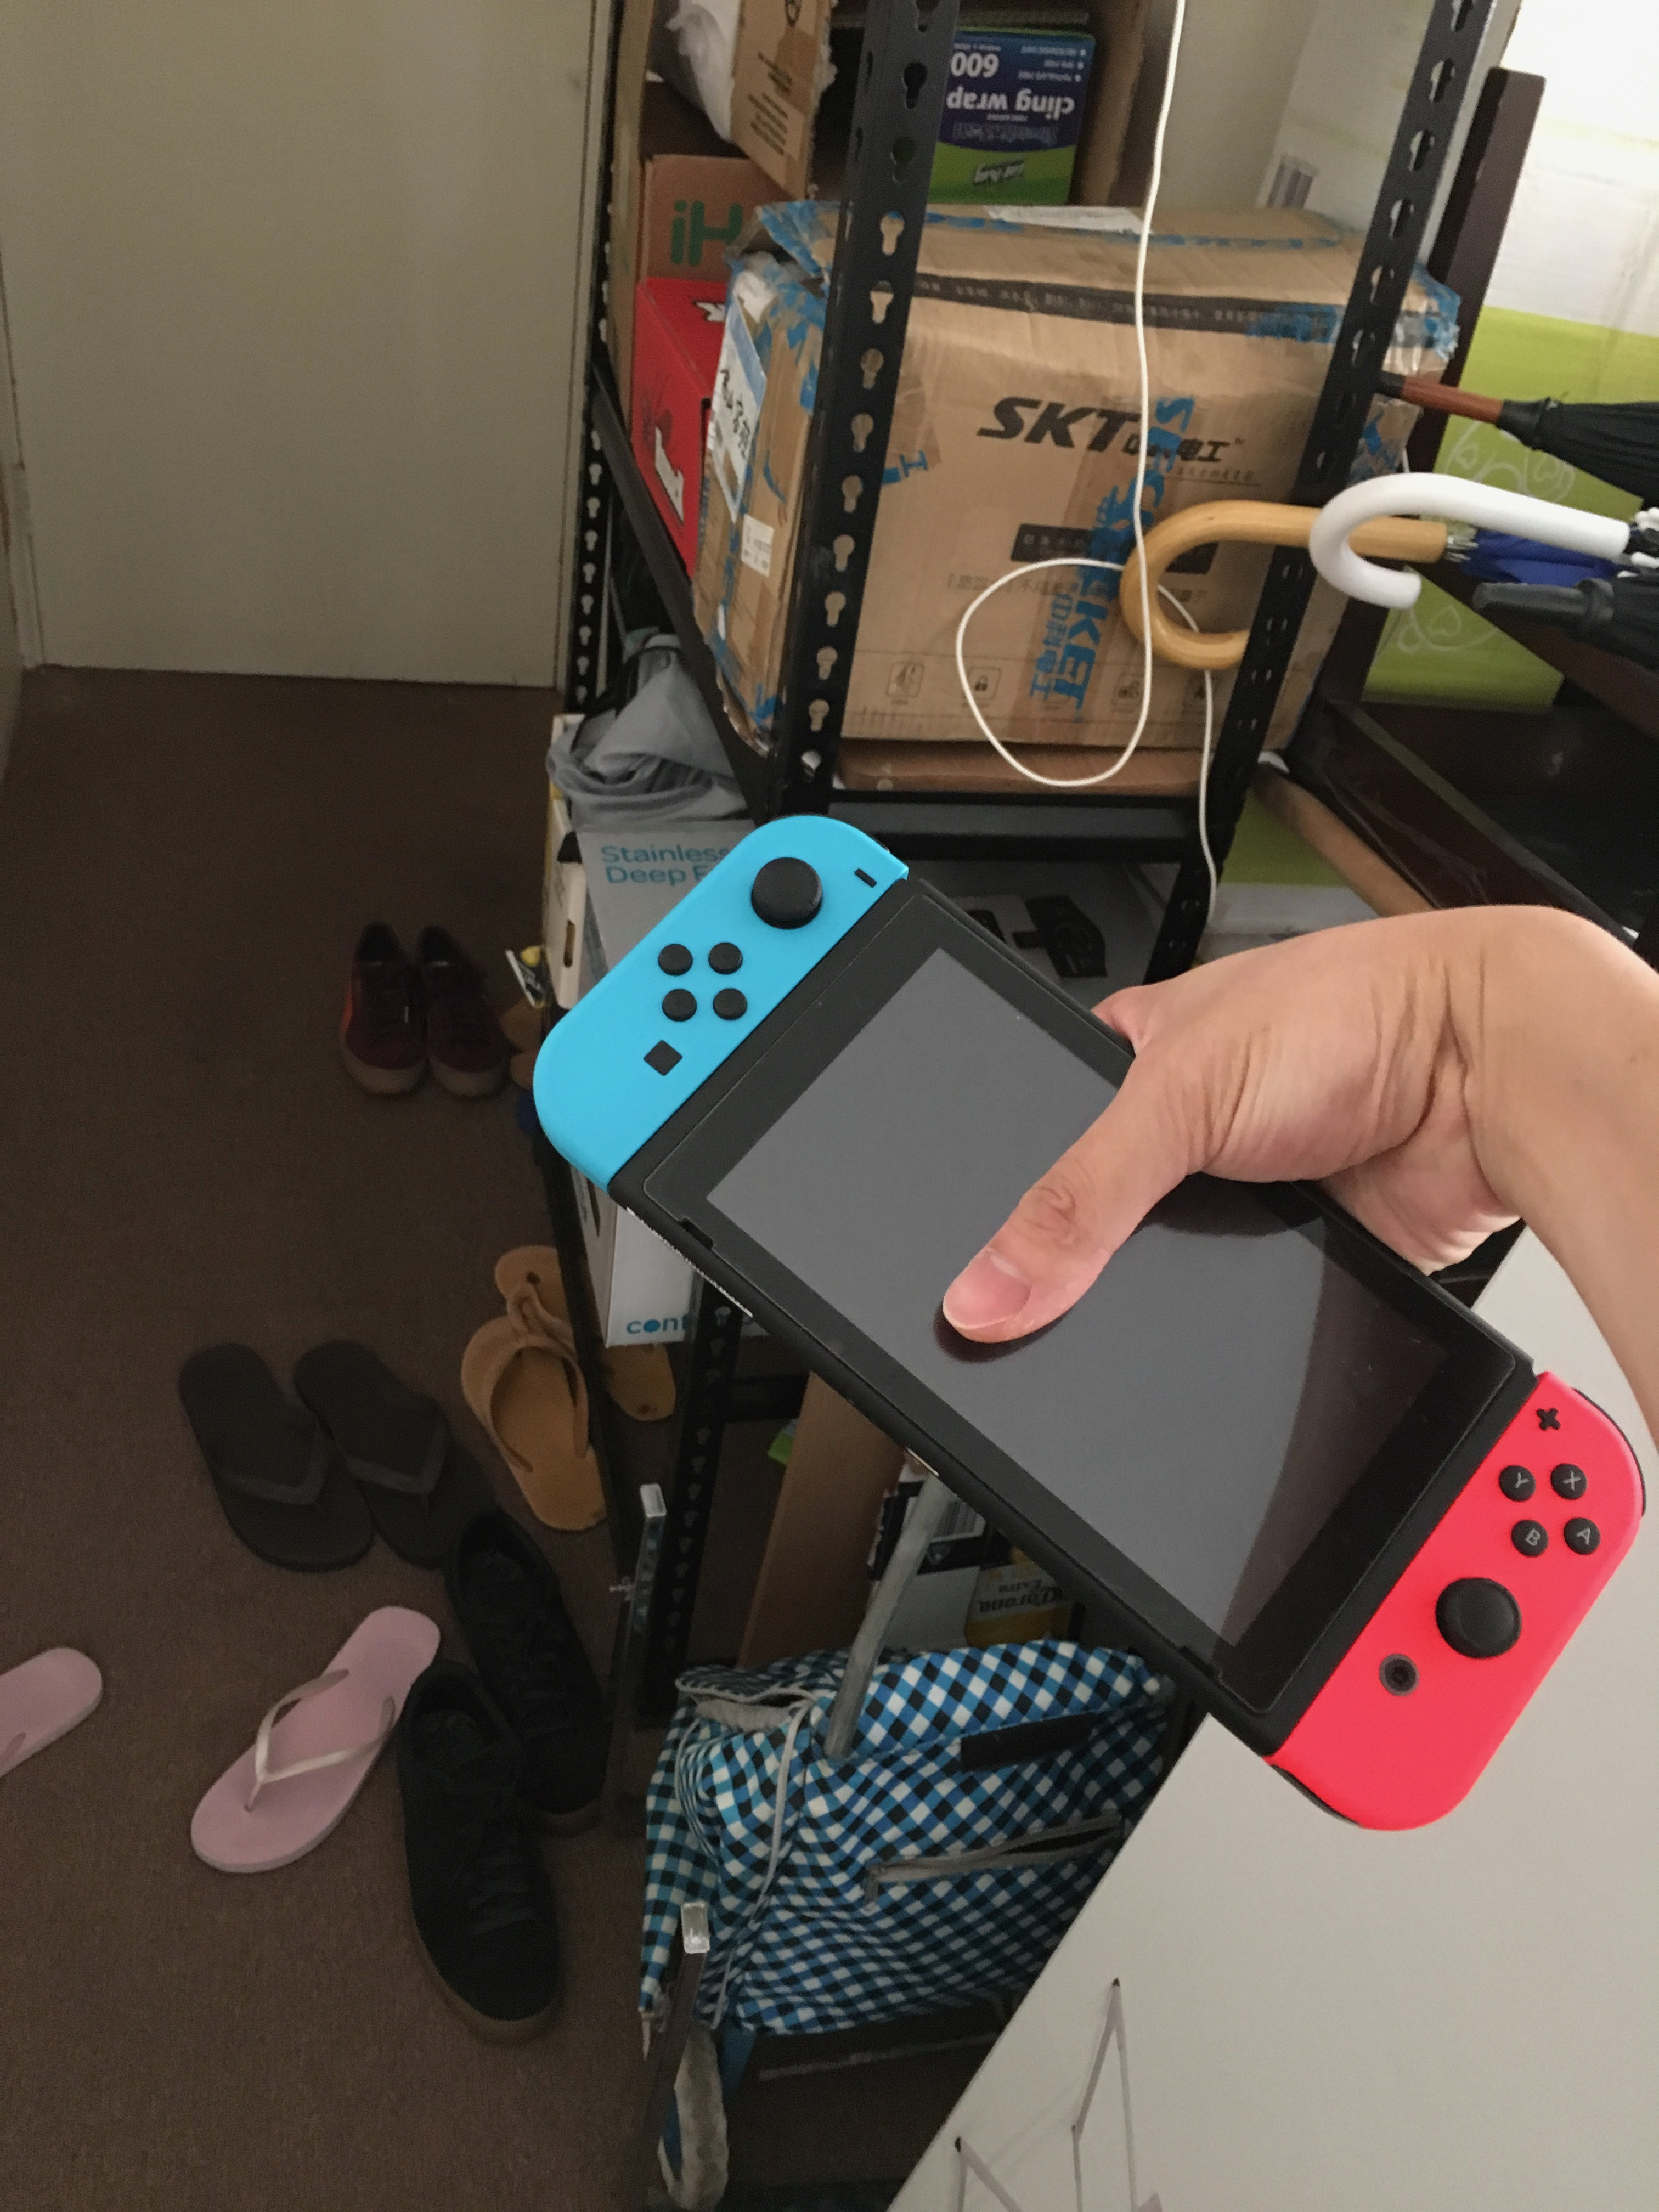NintendoSwitch: (500, 805, 1657, 1860)
